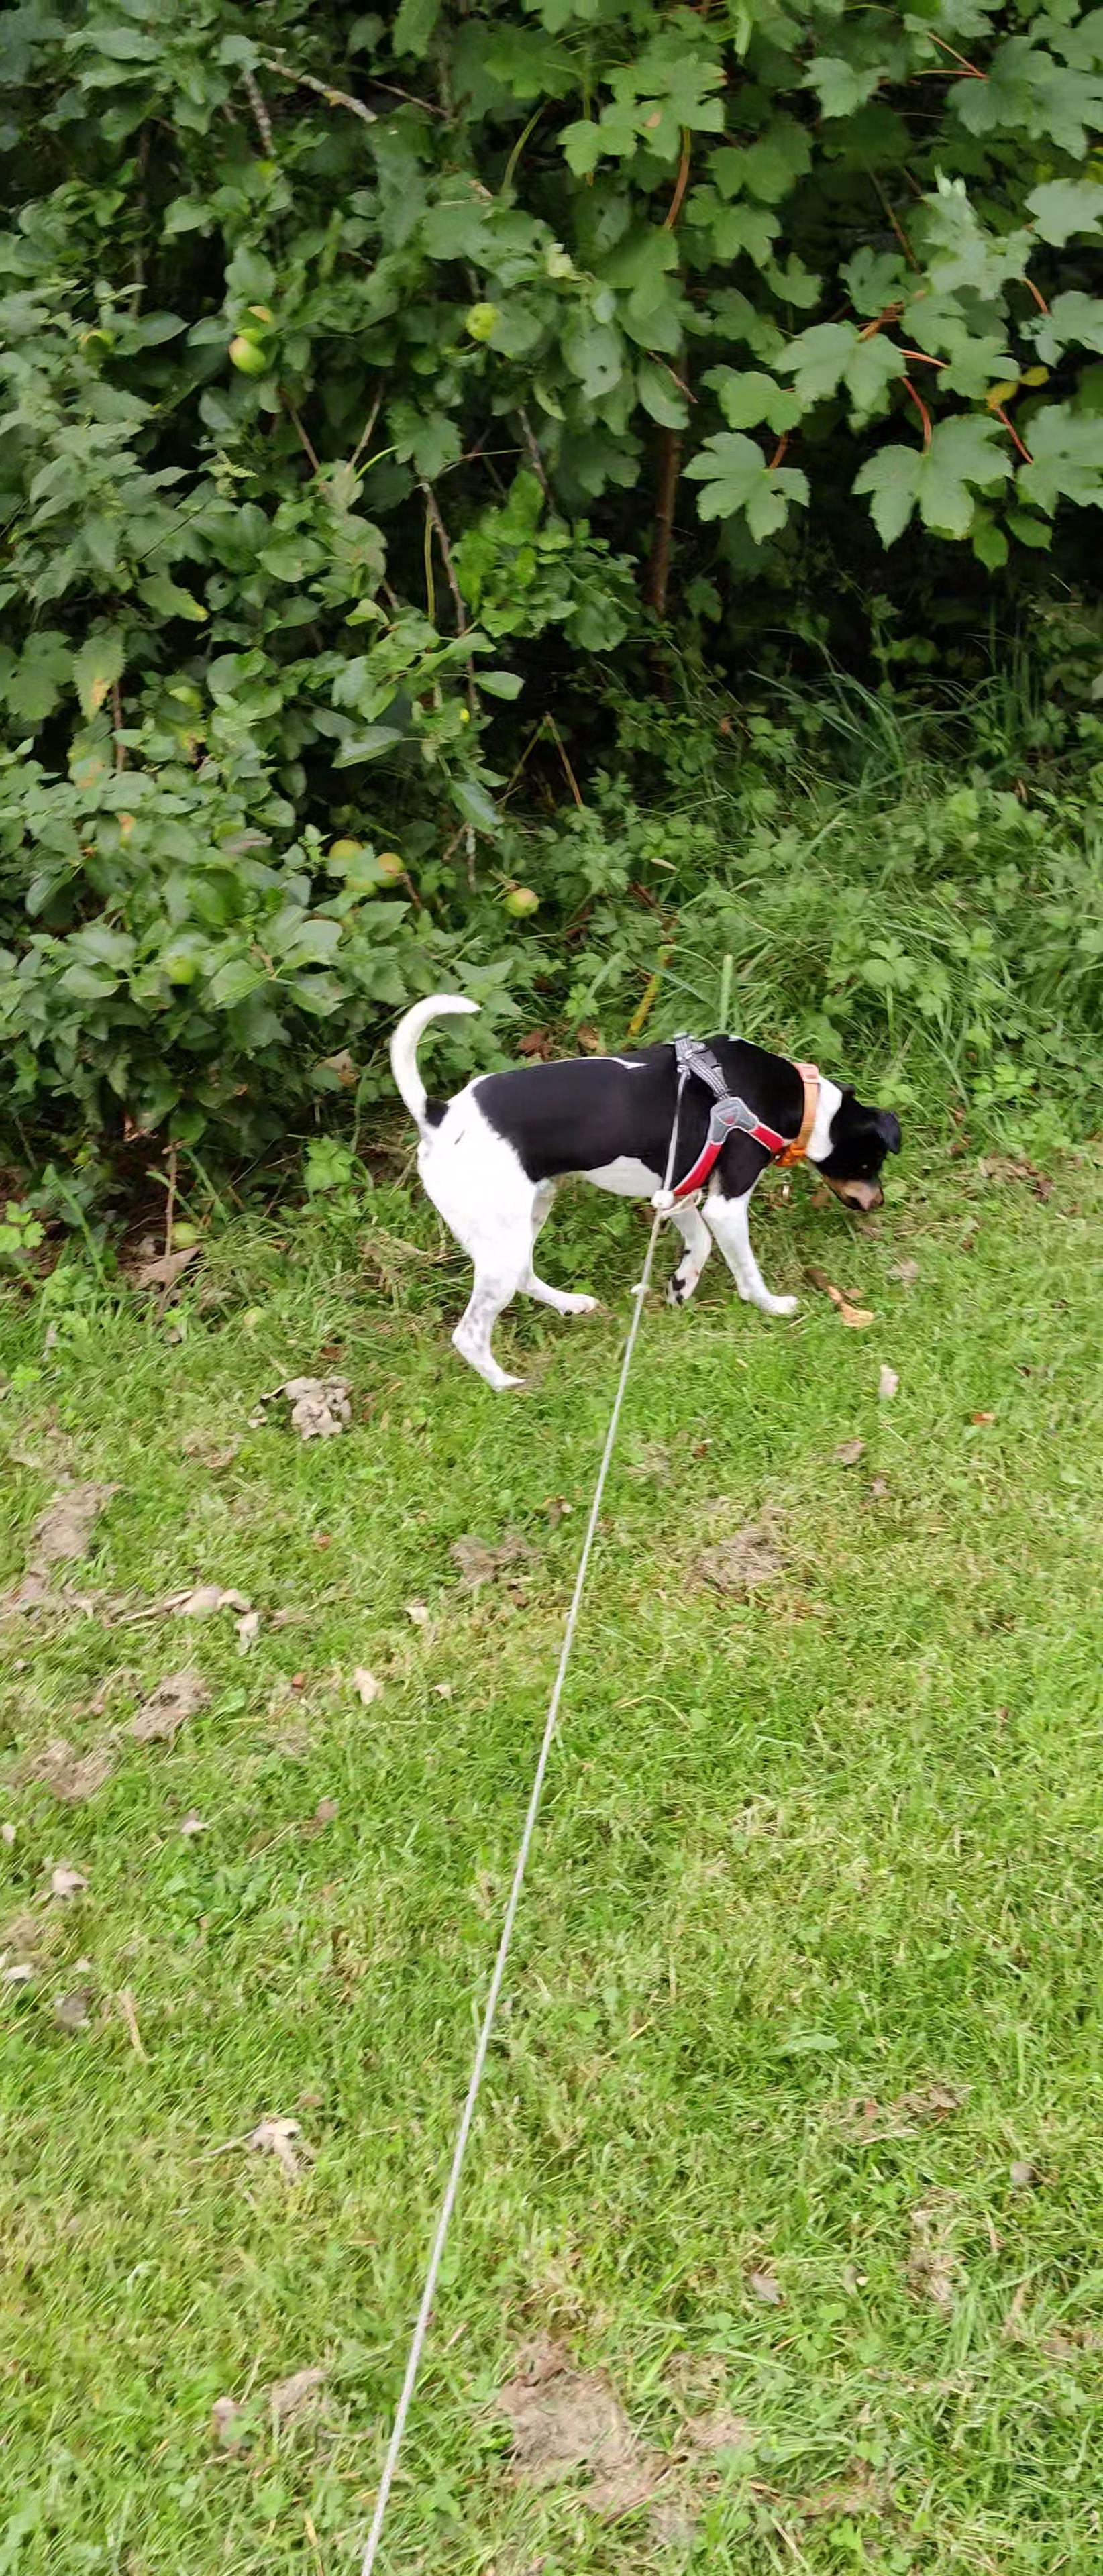Dog: (373, 977, 912, 1391)
